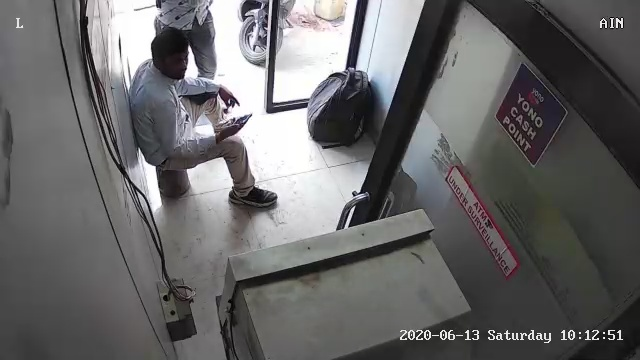open: (113, 4, 355, 148)
